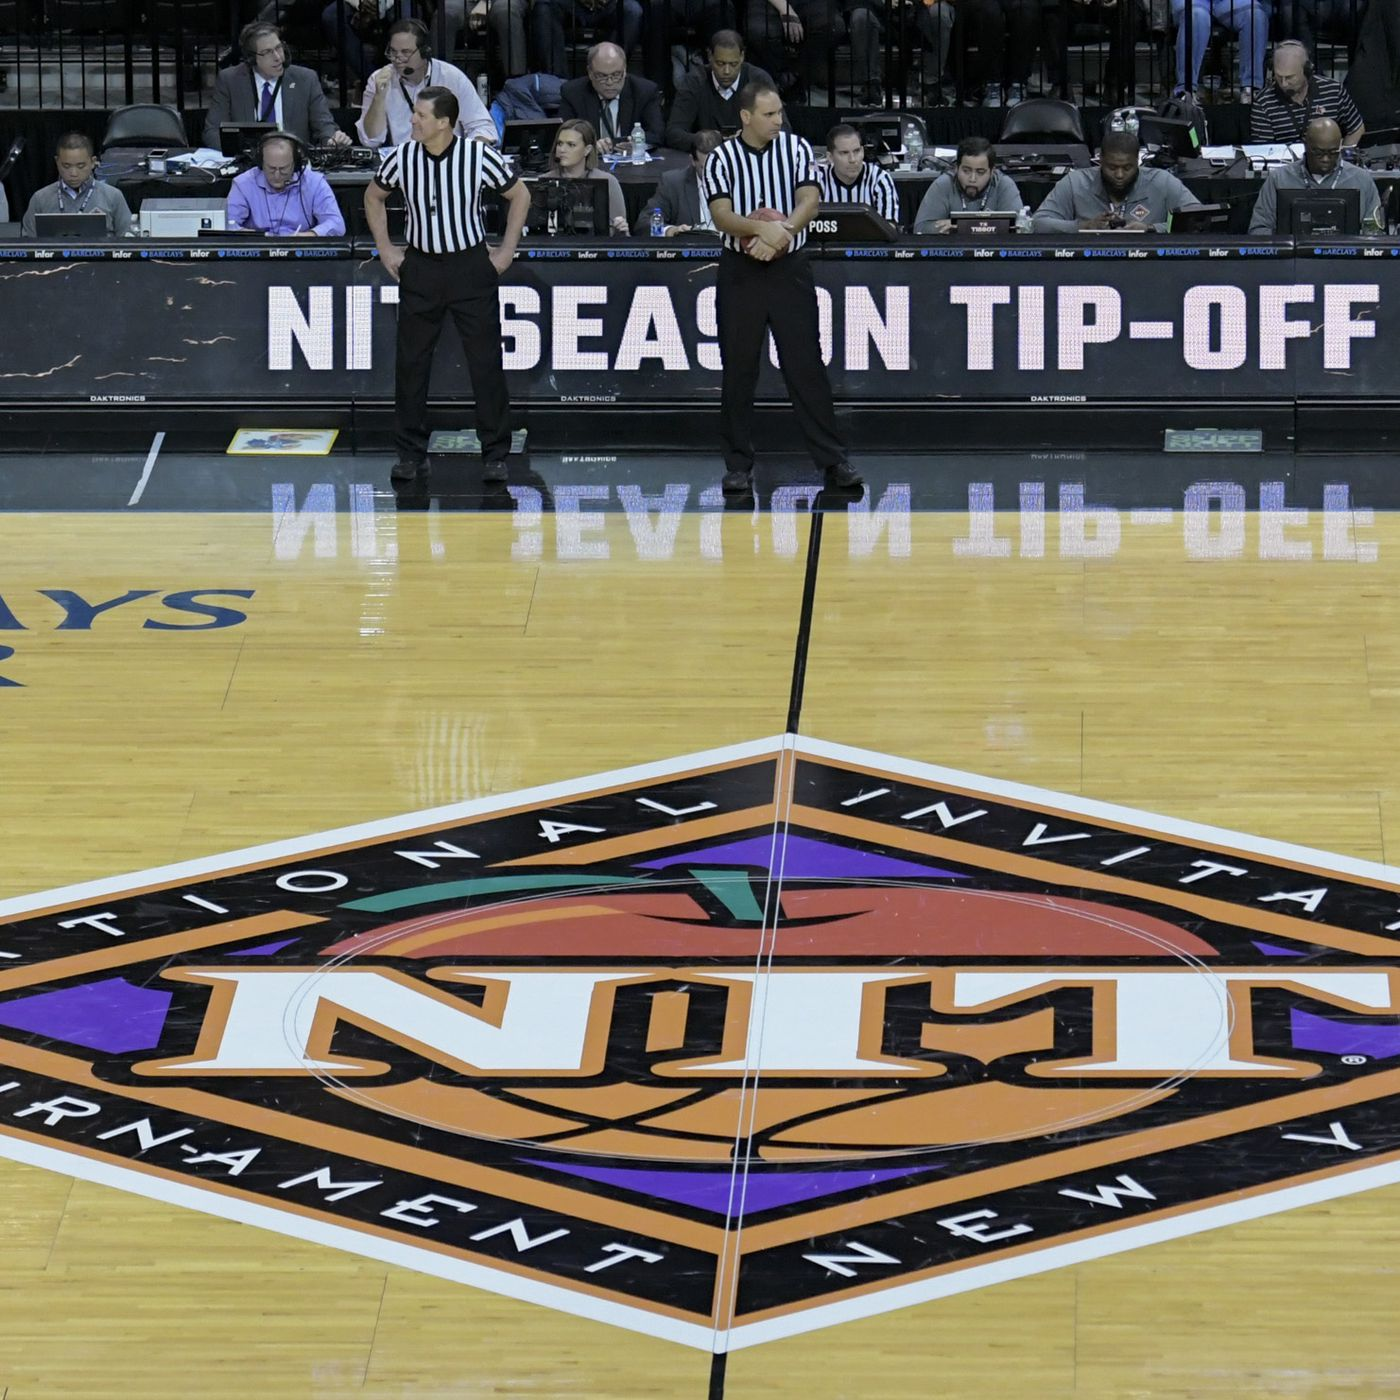face: (401, 82, 488, 160), (727, 84, 797, 161)
referee: (697, 58, 879, 515), (357, 100, 539, 515)
